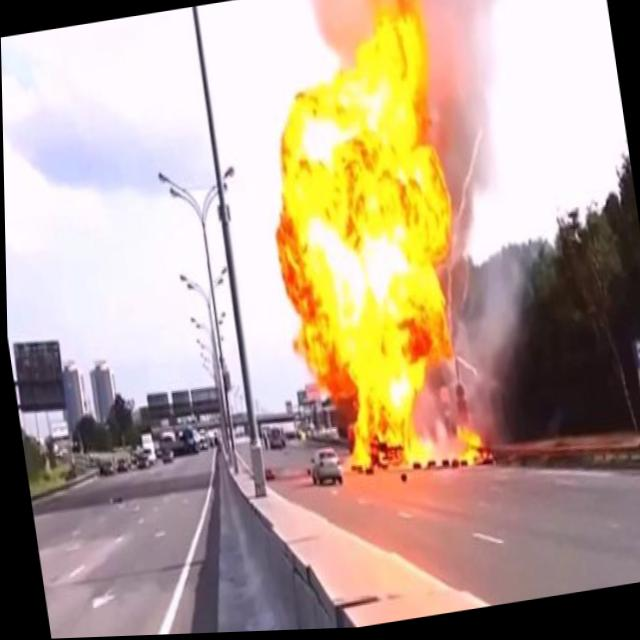fire: (240, 0, 504, 500)
